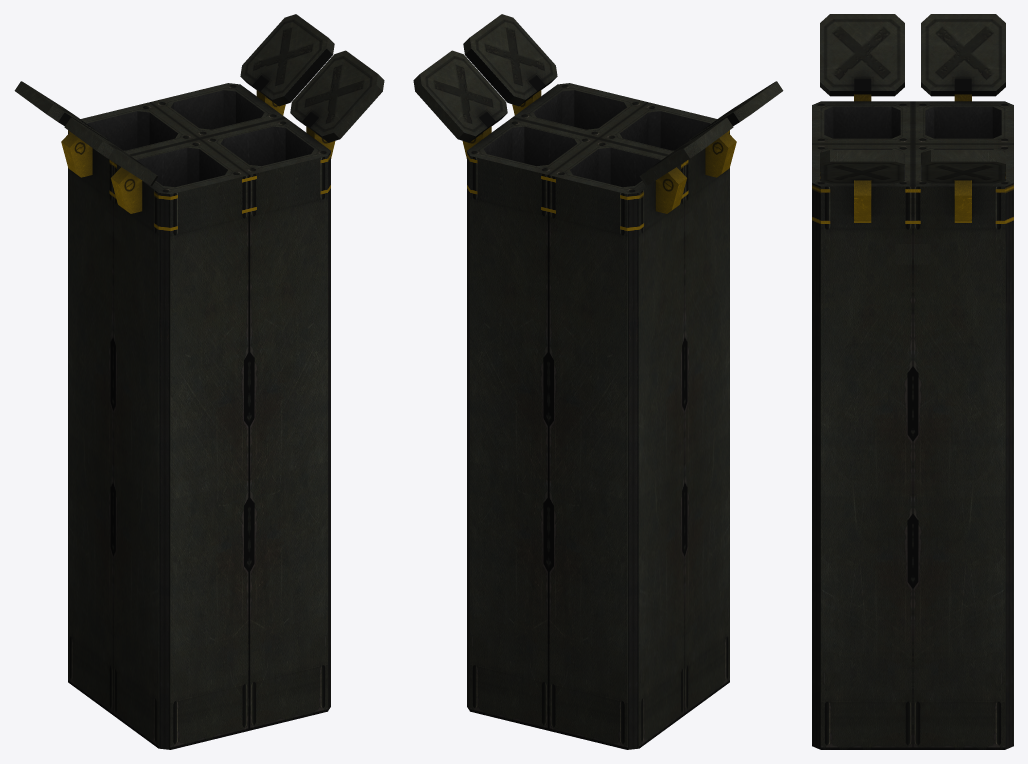
File: weapon_rocket.FBX
3 views of the same model, side by side, from view 1: azimuth 30°, elevation 25°; view 2: azimuth 150°, elevation 25°; view 3: azimuth 270°, elevation 25° (orthographic).
Visible parts, largest first — view 1: Box001; view 2: Box001; view 3: Box001.
Part boxes in pixels (x1,y1,x2,y2): Box001: (14, 14, 384, 749); Box001: (413, 14, 783, 749); Box001: (812, 14, 1013, 749).
Bounding box in the file's own units: 21.71 × 44.4 × 13.
Materials: 1 (1 with a texture image).
